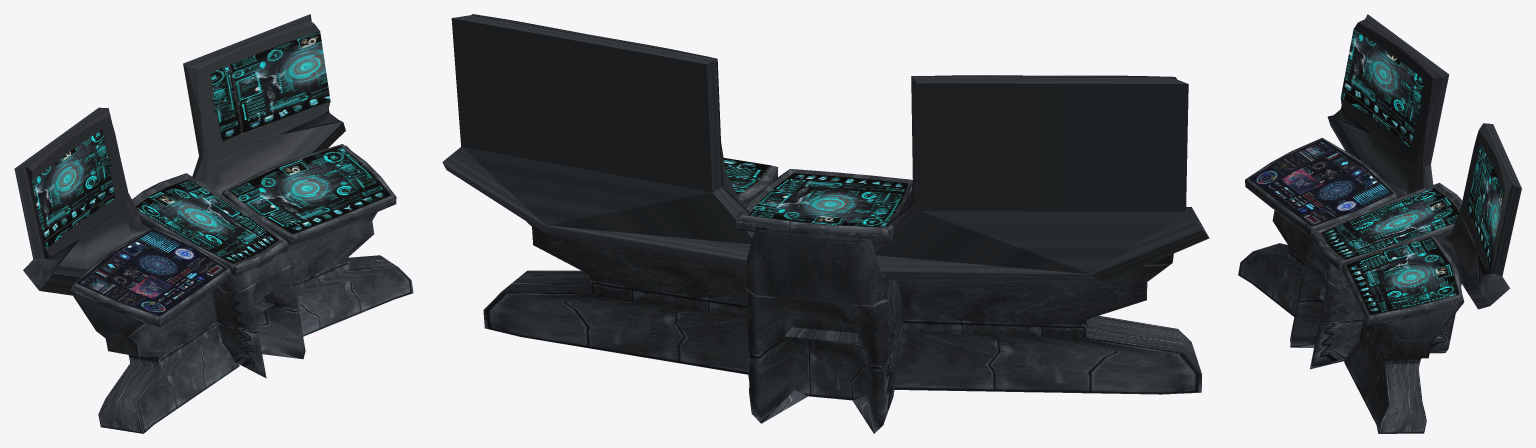
Rendered from sci-fi-computer-desk-console.glb.
3 views of the same model, side by side, from view 1: azimuth 30°, elevation 25°; view 2: azimuth 150°, elevation 25°; view 3: azimuth 270°, elevation 25° (orthographic). The views are drawn at different scales.
Visible parts, largest first — view 1: MaterialFBXASC032FBXASC0352142146907, MaterialFBXASC032FBXASC03511186, MaterialFBXASC032FBXASC0352142146802; view 2: MaterialFBXASC032FBXASC0352142146907, MaterialFBXASC032FBXASC03511186; view 3: MaterialFBXASC032FBXASC0352142146907, MaterialFBXASC032FBXASC03511186, MaterialFBXASC032FBXASC0352142146802.
Part boxes in pixels (x1=…): MaterialFBXASC032FBXASC0352142146907: x1=14, y1=14, x2=413, y2=433; MaterialFBXASC032FBXASC03511186: x1=32, y1=31, x2=391, y2=264; MaterialFBXASC032FBXASC0352142146802: x1=77, y1=229, x2=227, y2=316; MaterialFBXASC032FBXASC0352142146907: x1=442, y1=14, x2=1209, y2=433; MaterialFBXASC032FBXASC03511186: x1=723, y1=158, x2=908, y2=227; MaterialFBXASC032FBXASC0352142146907: x1=1238, y1=14, x2=1521, y2=433; MaterialFBXASC032FBXASC03511186: x1=1321, y1=29, x2=1503, y2=315; MaterialFBXASC032FBXASC0352142146802: x1=1249, y1=139, x2=1393, y2=226.
Size of the model in its own units: 1.35 by 0.7713 by 0.8315.
3 materials, 3 textured.
